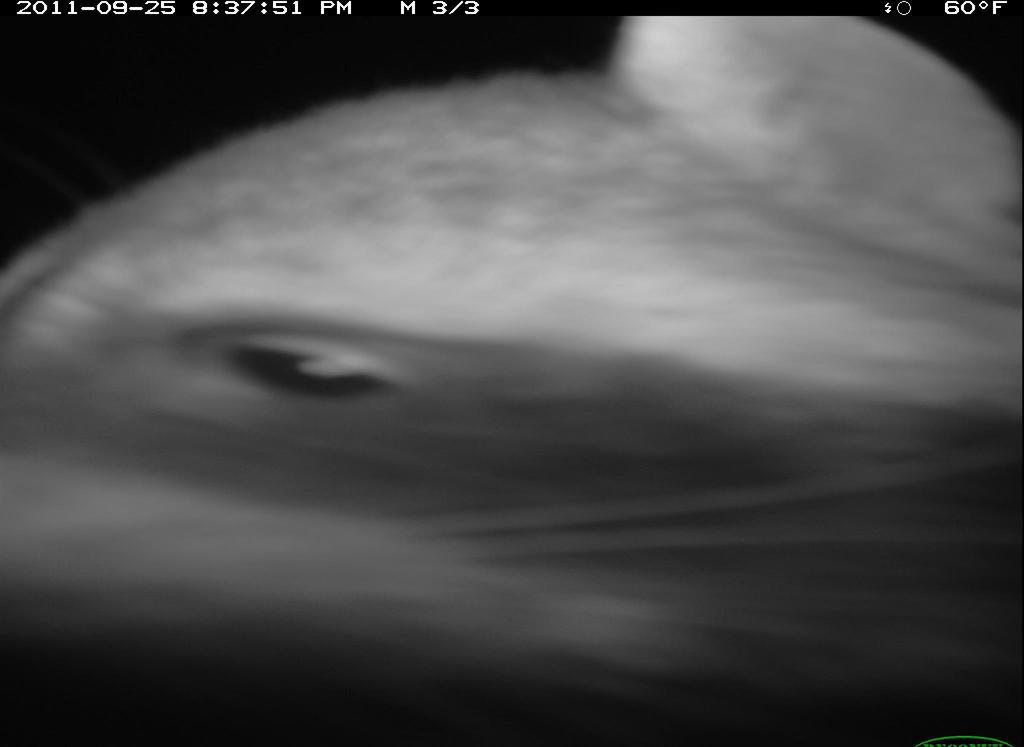raccoon: (4, 7, 1018, 742)
